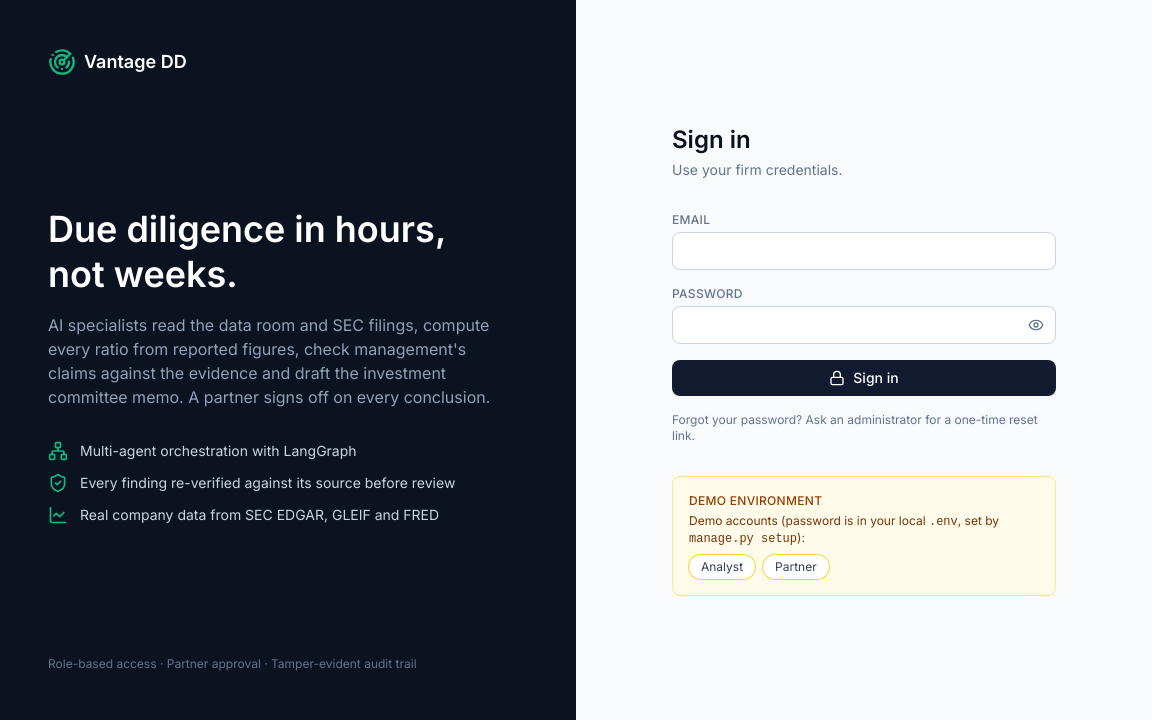
Test: Login page › eye button reveals and hides only what the user typed
Type "my-secret" into the password field labelled "Password" at (864, 325), box [672,306,1056,344]
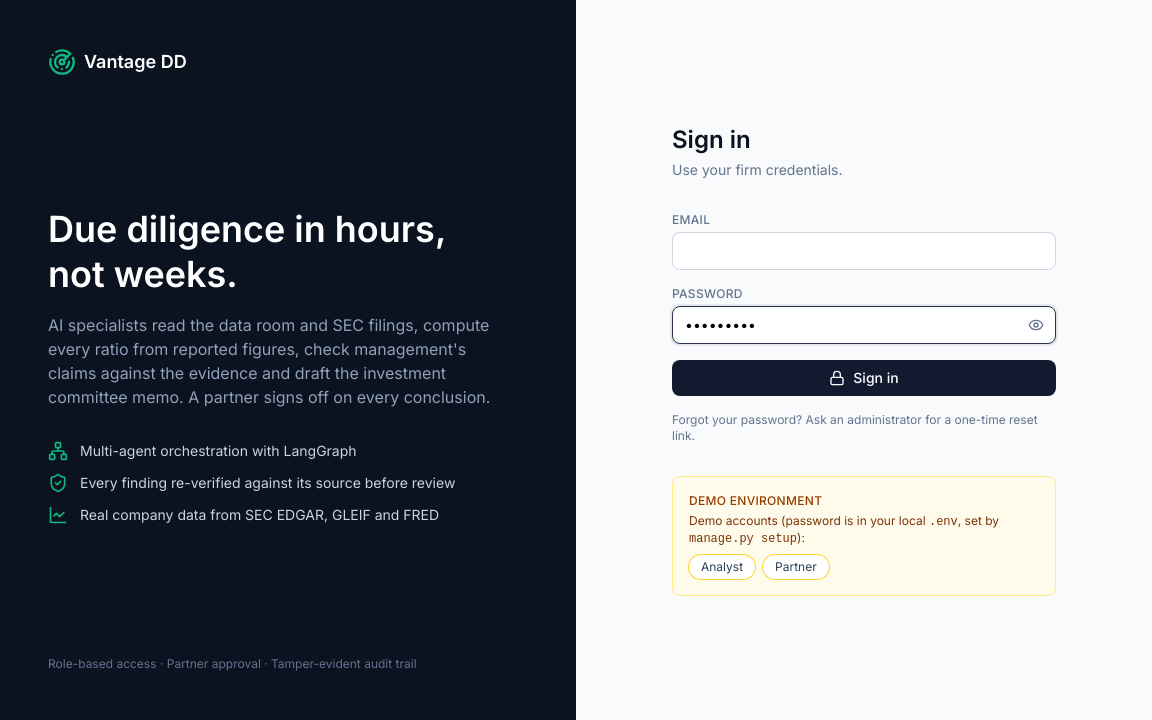
Click the button named "Show password" at (1036, 325), box [1016,306,1056,344]
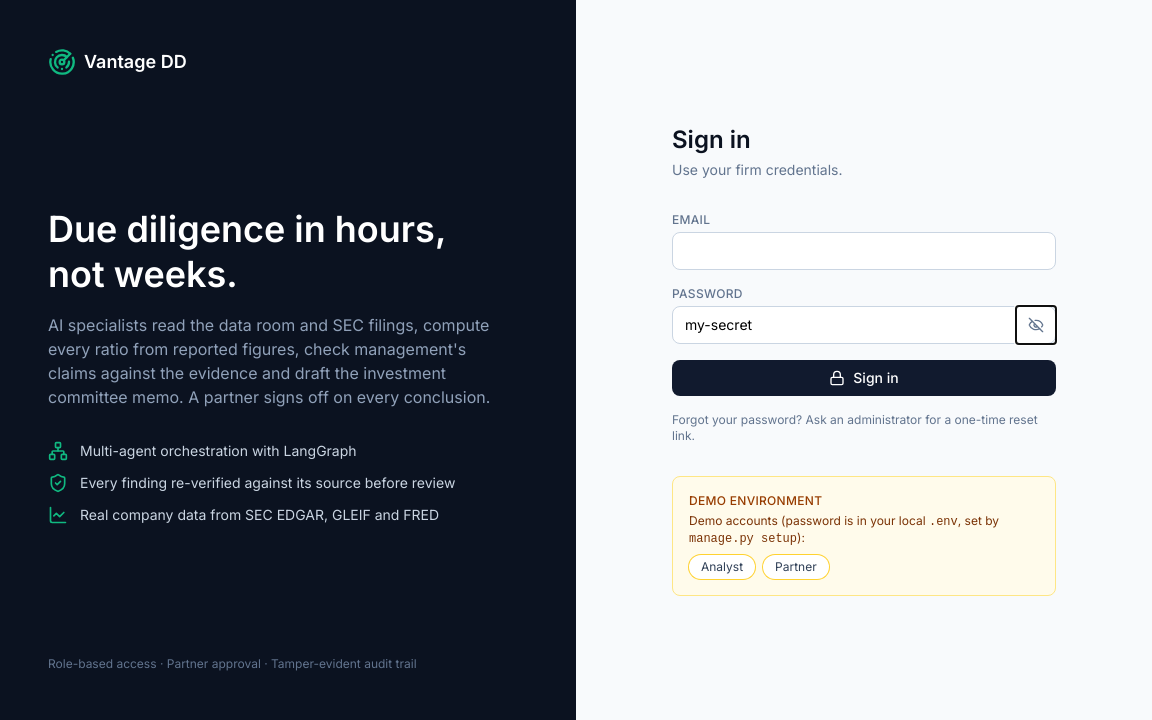
Expected: the field labelled "Password" shows its text, [672,306,1056,344]
Click the button named "Hide password" at (1036, 325), box [1016,306,1056,344]
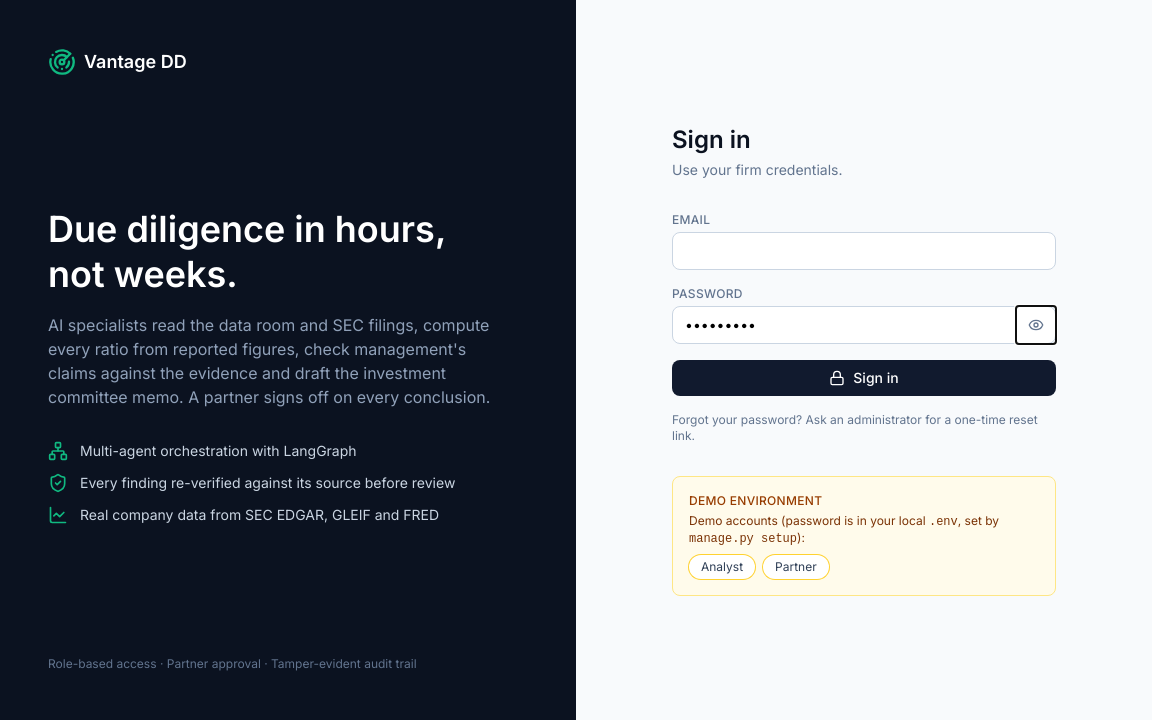
Expected: the password field labelled "Password" hides its text, [672,306,1056,344]
